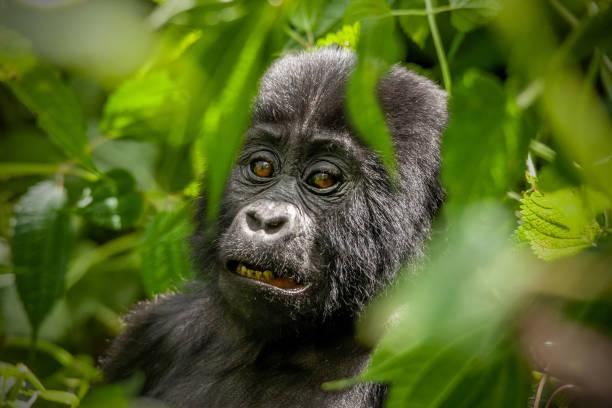goriile_montagne: (158, 27, 460, 408)
